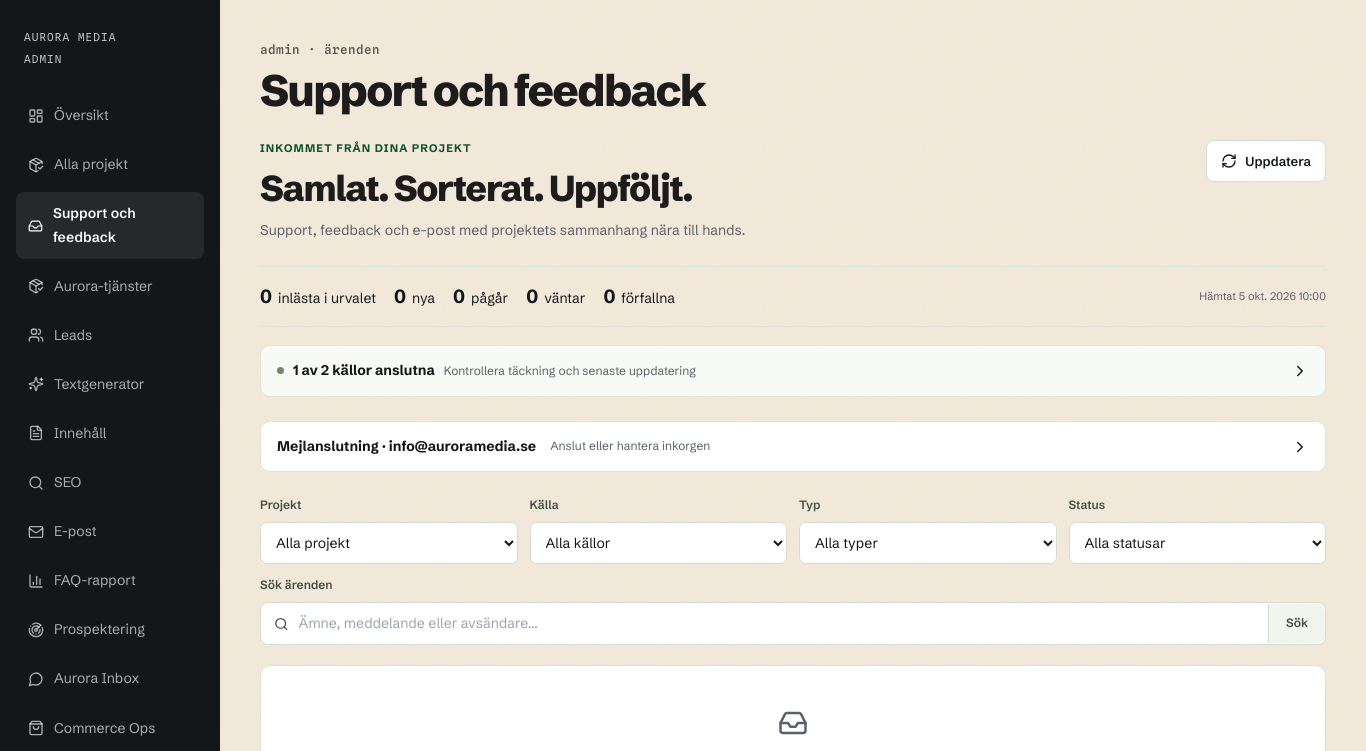
Test: central support workspace › keeps missing source coverage visible when no cases have been imported
This screenshot has width=1366, height=751.
Click the text "1 av 2 källor anslutna" at [364, 371], box [293,360,435,382]
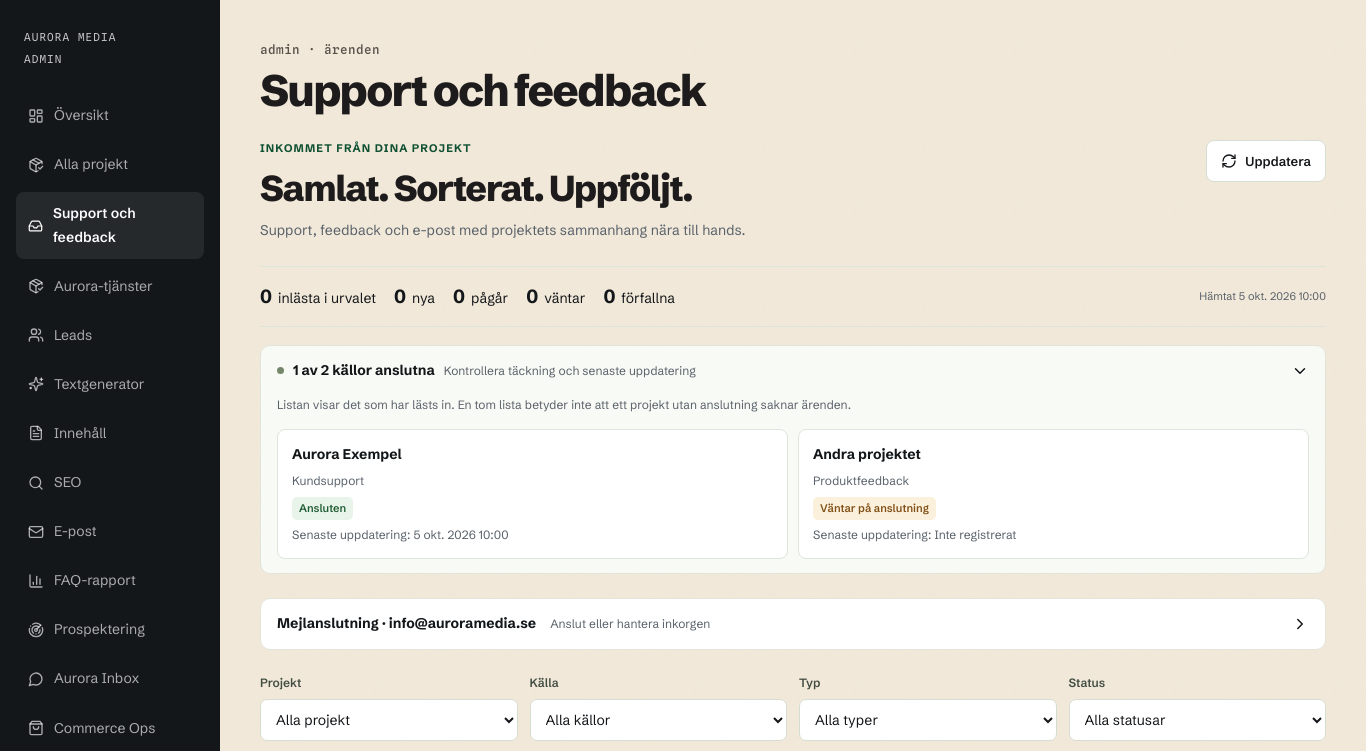
expect the text "Väntar på anslutning" is shown: met, box [813,497,936,520]
expect the text "En tom lista betyder inte att ett projekt" is shown: met, box [277,397,851,412]
